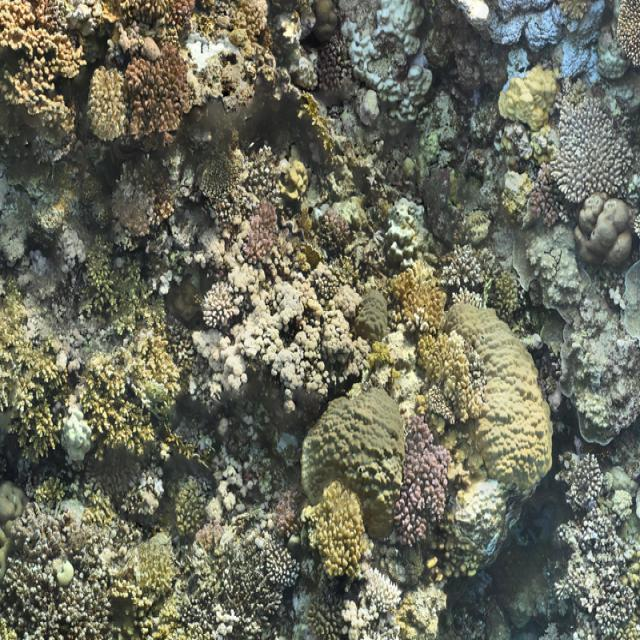Bleached Coral: (455, 483, 521, 554), (61, 405, 94, 460)
